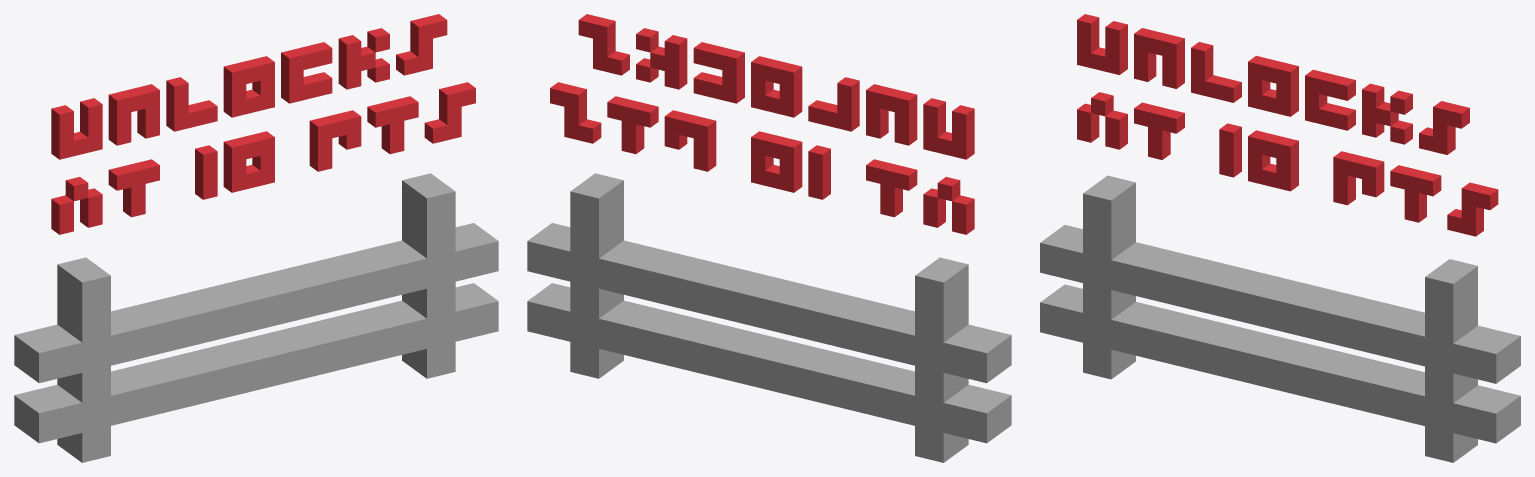
The model's file is Gate10.obj.
3 views of the same model, side by side, from view 1: azimuth 30°, elevation 25°; view 2: azimuth 150°, elevation 25°; view 3: azimuth 330°, elevation 25° (orthographic).
Parts seen in each view (by area): view 1: Gate10; view 2: Gate10; view 3: Gate10.
Boxes of the visible parts, x1,y1,x2,y2 form: Gate10: (14,14,498,462); Gate10: (527,14,1011,462); Gate10: (1040,14,1520,462).
Bounding box in the file's own units: 32 × 23 × 3.
Materials: 1 (1 with a texture image).
